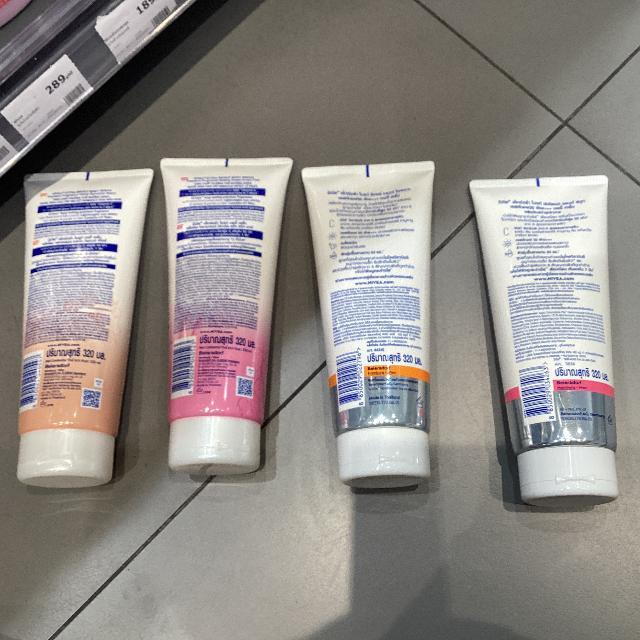Squeeze Tube: (0, 136, 635, 539), (469, 172, 616, 504), (8, 167, 156, 493), (306, 150, 429, 496), (162, 152, 291, 478)
